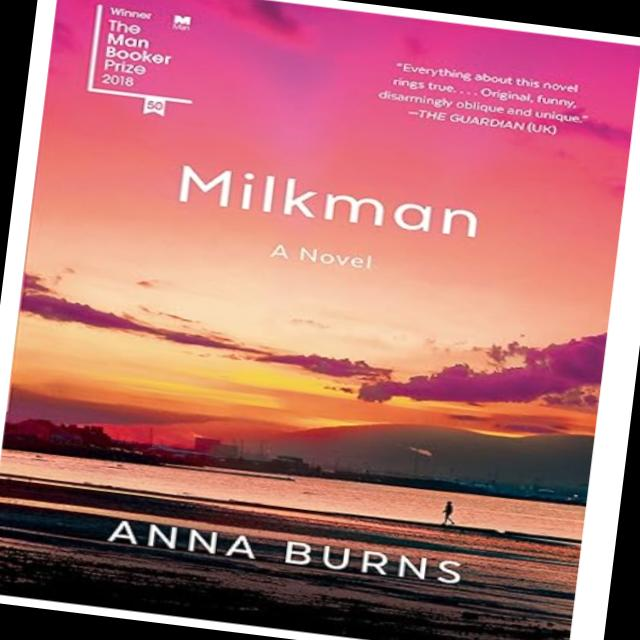titles-or-authors: (93, 508, 477, 596), (167, 157, 493, 246)
